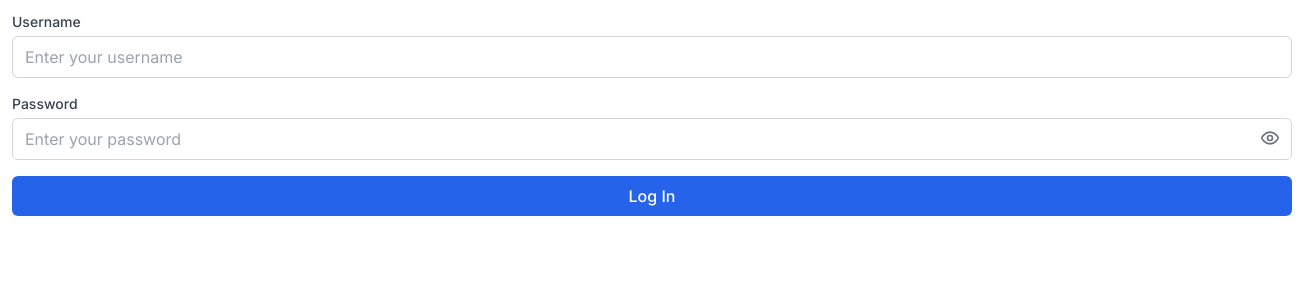
it: LoginForm › should clear username error when user types
This screenshot has width=1304, height=285.
Click the button "Log In". click: (652, 196)
box: [12,176,1292,216]
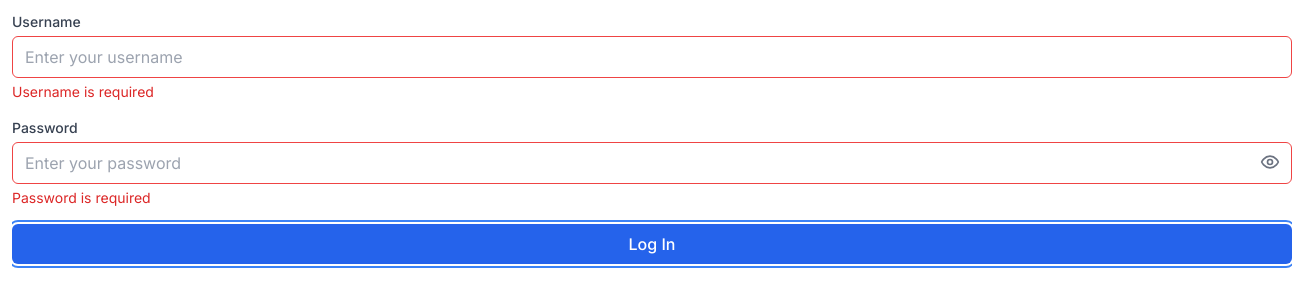
Expected: the text "Username is required" is shown, [12,83,154,100]
Type "testuser" into the field labelled "Username". click: (652, 57)
box: [12,36,1292,78]
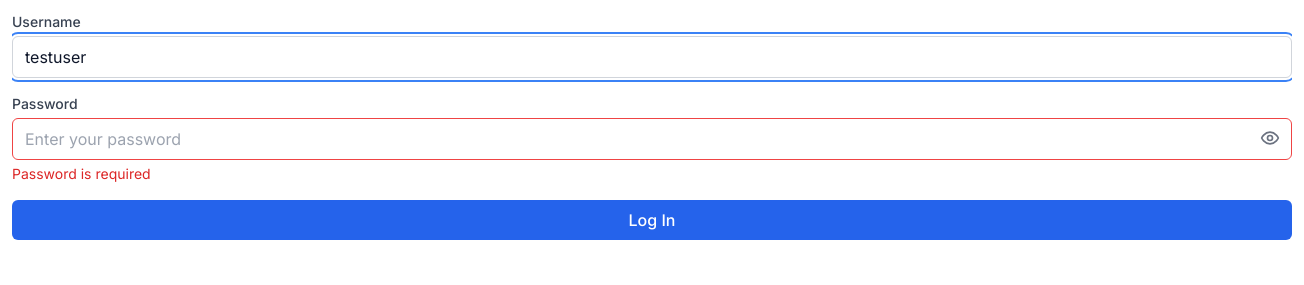
Expected: the text "Username is required" is gone
